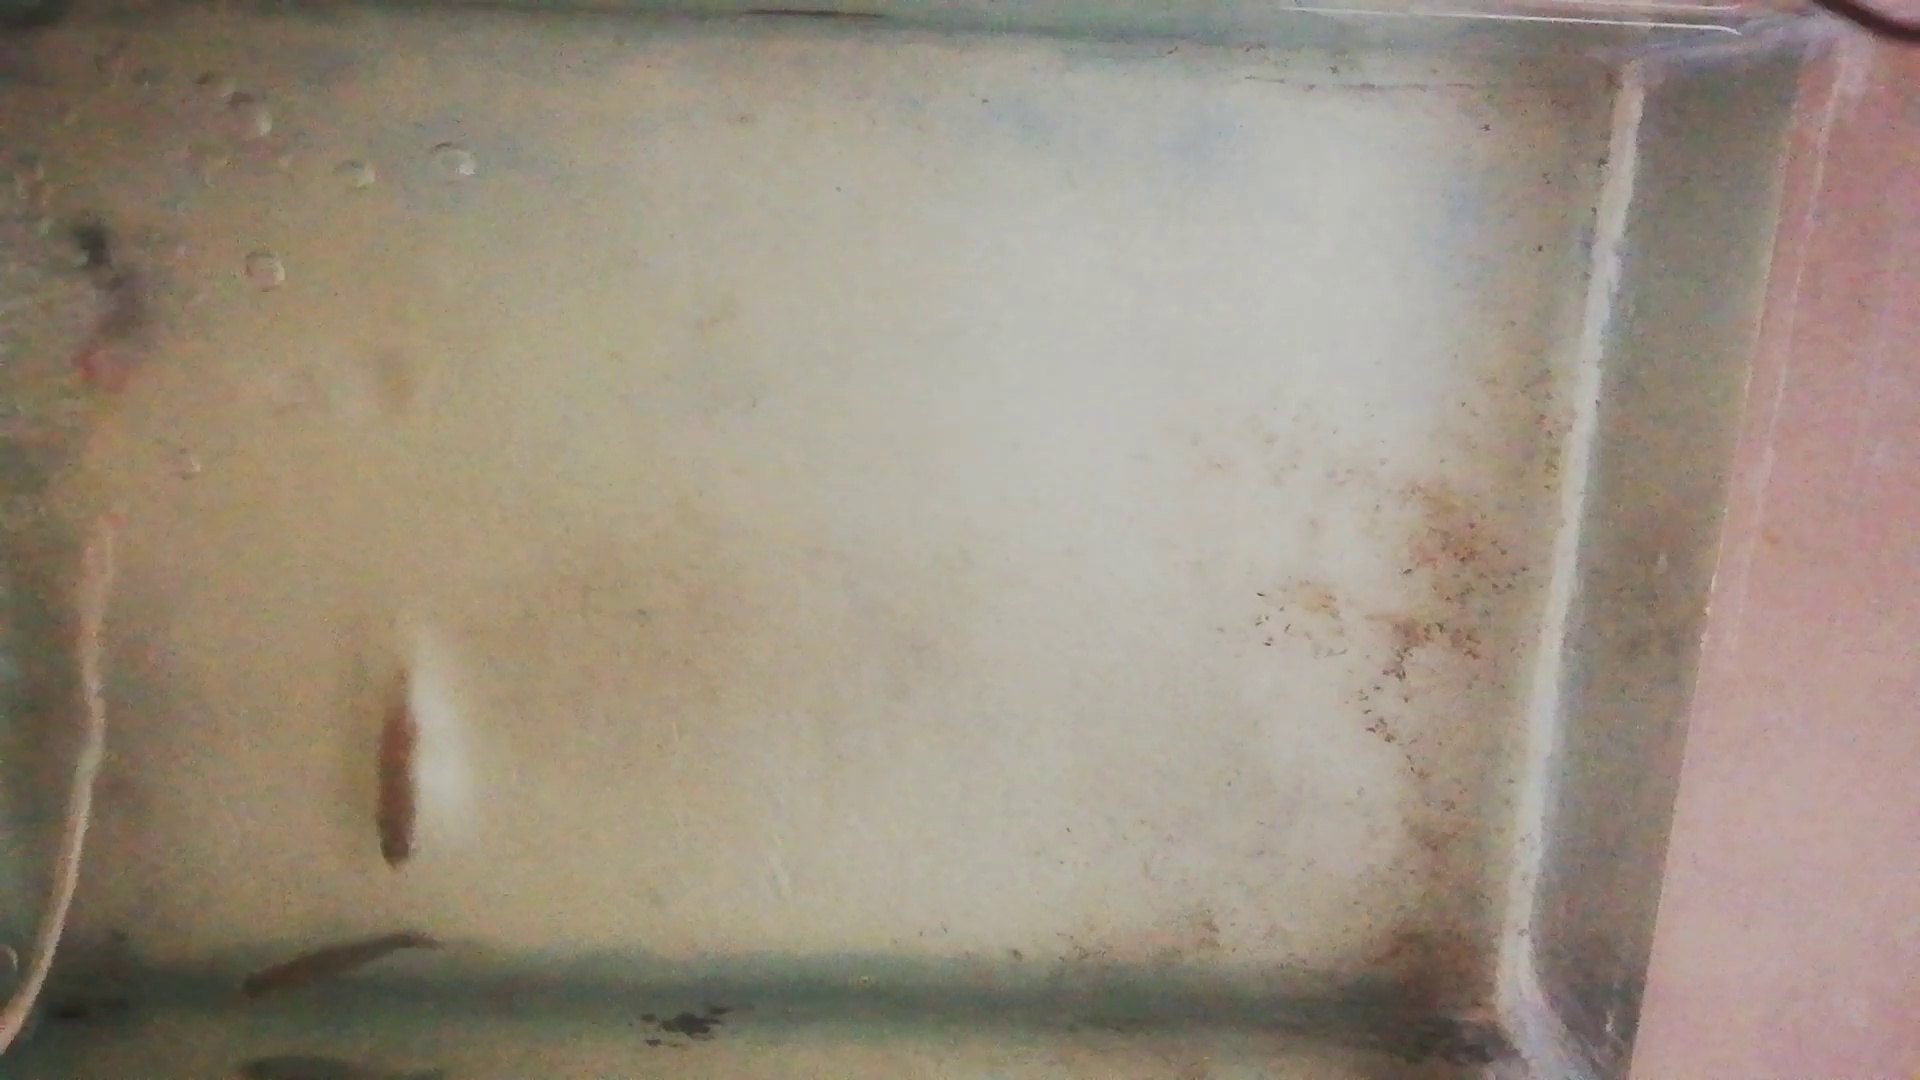fish: (244, 932, 442, 1007), (375, 673, 425, 872)
